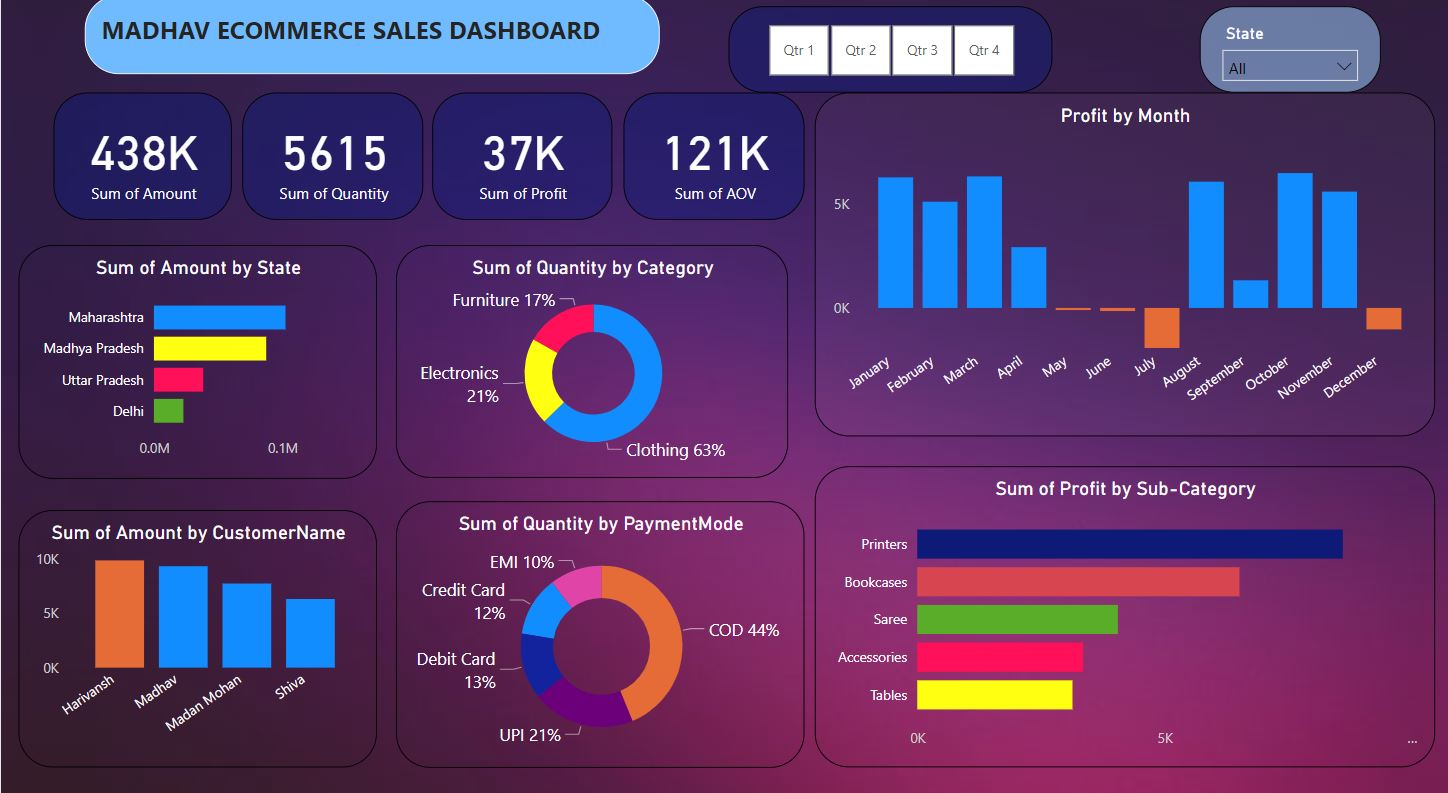

Layout of this report page (visuals, bound fields, positions):
{"tool":"powerbi","page":{"name":"Page 1","canvas":[1280,720],"ordinal":0},"visuals":[{"type":"textbox","box":[73.4,0,505.3,69.8],"z":0},{"type":"columnChart","title":" Profit by Month","fields":{"Y":["Details.Profit"],"Category":["Orders.Order Date.Variation.Date Hierarchy.Month"]},"box":[715.6,85.7,545.2,302.3],"z":1000},{"type":"clusteredBarChart","fields":{"Category":["Details.Sub-Category"],"Y":["Details.Profit"]},"box":[715.6,414.4,545.2,264.9],"z":2000},{"type":"donutChart","fields":{"Category":["Details.Category"],"Y":["Details.Quantity"]},"box":[347.4,219.8,345.2,204.5],"z":3000},{"type":"donutChart","fields":{"Category":["Details.PaymentMode"],"Y":["Details.Quantity"]},"box":[347.4,445.2,359.5,234.1],"z":4000},{"type":"card","fields":{"Values":["Details.Amount"]},"box":[46.2,85.7,157.2,112.1],"z":5000},{"type":"card","fields":{"Values":["Details.Quantity"]},"box":[212.2,85.7,159.4,112.1],"z":6000},{"type":"card","fields":{"Values":["Details.Profit"]},"box":[379.2,85.7,158.3,112.1],"z":7000},{"type":"card","fields":{"Values":["Details.AOV"]},"box":[547.4,85.7,159.4,112.1],"z":8000},{"type":"clusteredBarChart","fields":{"Category":["Orders.State"],"Y":["Details.Amount"]},"box":[15.4,219.8,315.5,205.6],"z":9000},{"type":"columnChart","fields":{"Category":["Orders.CustomerName"],"Y":["Details.Amount"]},"box":[15.4,452.9,315.5,226.4],"z":10000},{"type":"slicer","fields":{"Values":["Orders.Order Date.Variation.Date Hierarchy.Quarter"]},"box":[639.8,9.9,284.7,75.8],"z":11000},{"type":"slicer","fields":{"Values":["Orders.State"]},"box":[1054.2,9.9,159.4,75.8],"z":12000}]}

Visuals, with their boxes in screenshot pixels (x1, y1, x2, y2), scaled from the page's 1280x720 canvas onto the 1448x793 screenshot:
textbox: [83,0,655,77]
" Profit by Month" columnChart: [810,94,1426,427]
clusteredBarChart - Details.Sub-Category x Details.Profit: [810,456,1426,748]
donutChart - Details.Category x Details.Quantity: [393,242,784,467]
donutChart - Details.PaymentMode x Details.Quantity: [393,490,800,748]
card - Details.Amount: [52,94,230,218]
card - Details.Quantity: [240,94,420,218]
card - Details.Profit: [429,94,608,218]
card - Details.AOV: [619,94,800,218]
clusteredBarChart - Orders.State x Details.Amount: [17,242,374,469]
columnChart - Orders.CustomerName x Details.Amount: [17,499,374,748]
slicer - Orders.Order Date.Variation.Date Hierarchy.Quarter: [724,11,1046,94]
slicer - Orders.State: [1193,11,1373,94]
